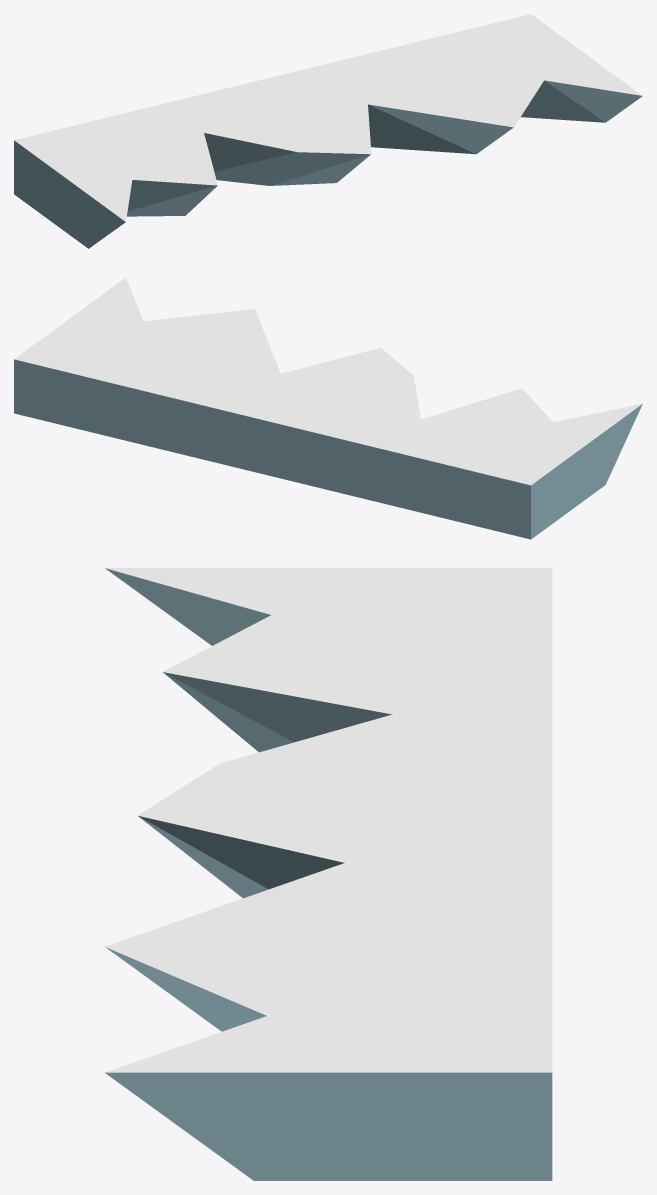
Rendered from Terrain_Modular_Tiles_Snow_Ice_Cliff_Edge_Straight_Outer_02.fbx.
3 views of the same model, one above another, from view 1: azimuth 30°, elevation 25°; view 2: azimuth 150°, elevation 25°; view 3: azimuth 270°, elevation 25° (orthographic). The views are drawn at different scales.
Parts seen in each view (by area): view 1: Terrain_Modular_Tiles_Snow_Ice_Cliff_Edge_Straight_Outer_02; view 2: Terrain_Modular_Tiles_Snow_Ice_Cliff_Edge_Straight_Outer_02; view 3: Terrain_Modular_Tiles_Snow_Ice_Cliff_Edge_Straight_Outer_02.
Part boxes in pixels (left/top/right/bottom): Terrain_Modular_Tiles_Snow_Ice_Cliff_Edge_Straight_Outer_02: left=14, top=14, right=642, bottom=248; Terrain_Modular_Tiles_Snow_Ice_Cliff_Edge_Straight_Outer_02: left=14, top=277, right=642, bottom=539; Terrain_Modular_Tiles_Snow_Ice_Cliff_Edge_Straight_Outer_02: left=105, top=568, right=552, bottom=1180.
Bounding box in the file's own units: 3000 × 300 × 1125.
